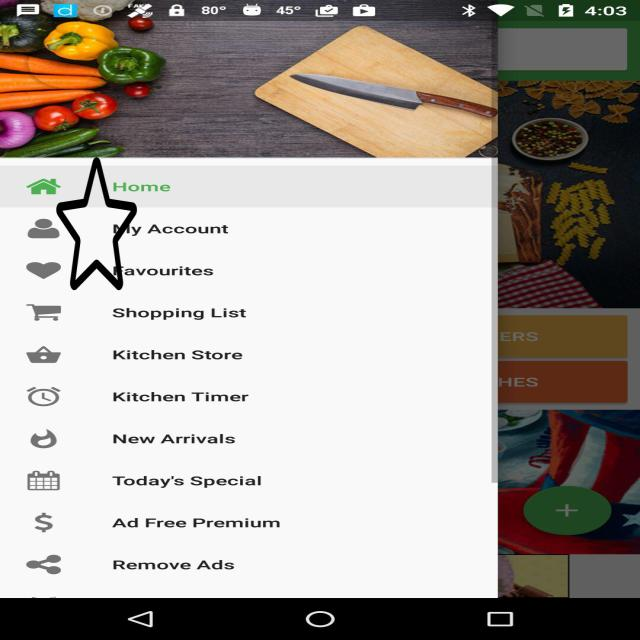forced continuity: (56, 154, 137, 293)
